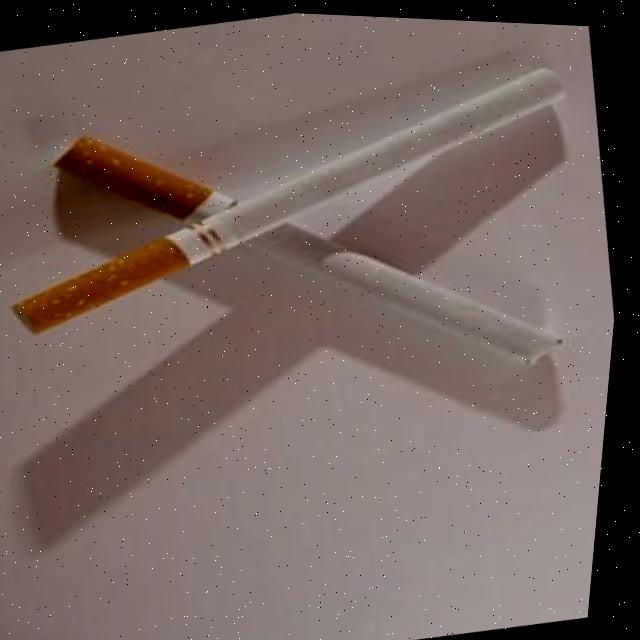cigarette: (9, 69, 564, 333), (240, 224, 561, 367), (52, 137, 233, 220)
